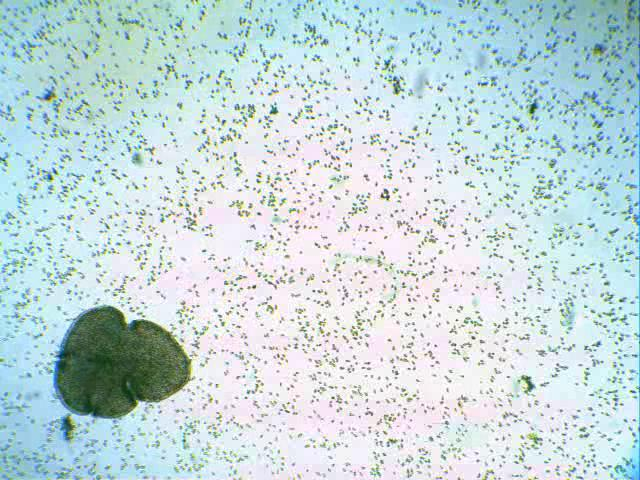Placozoan: (53, 304, 190, 419)
